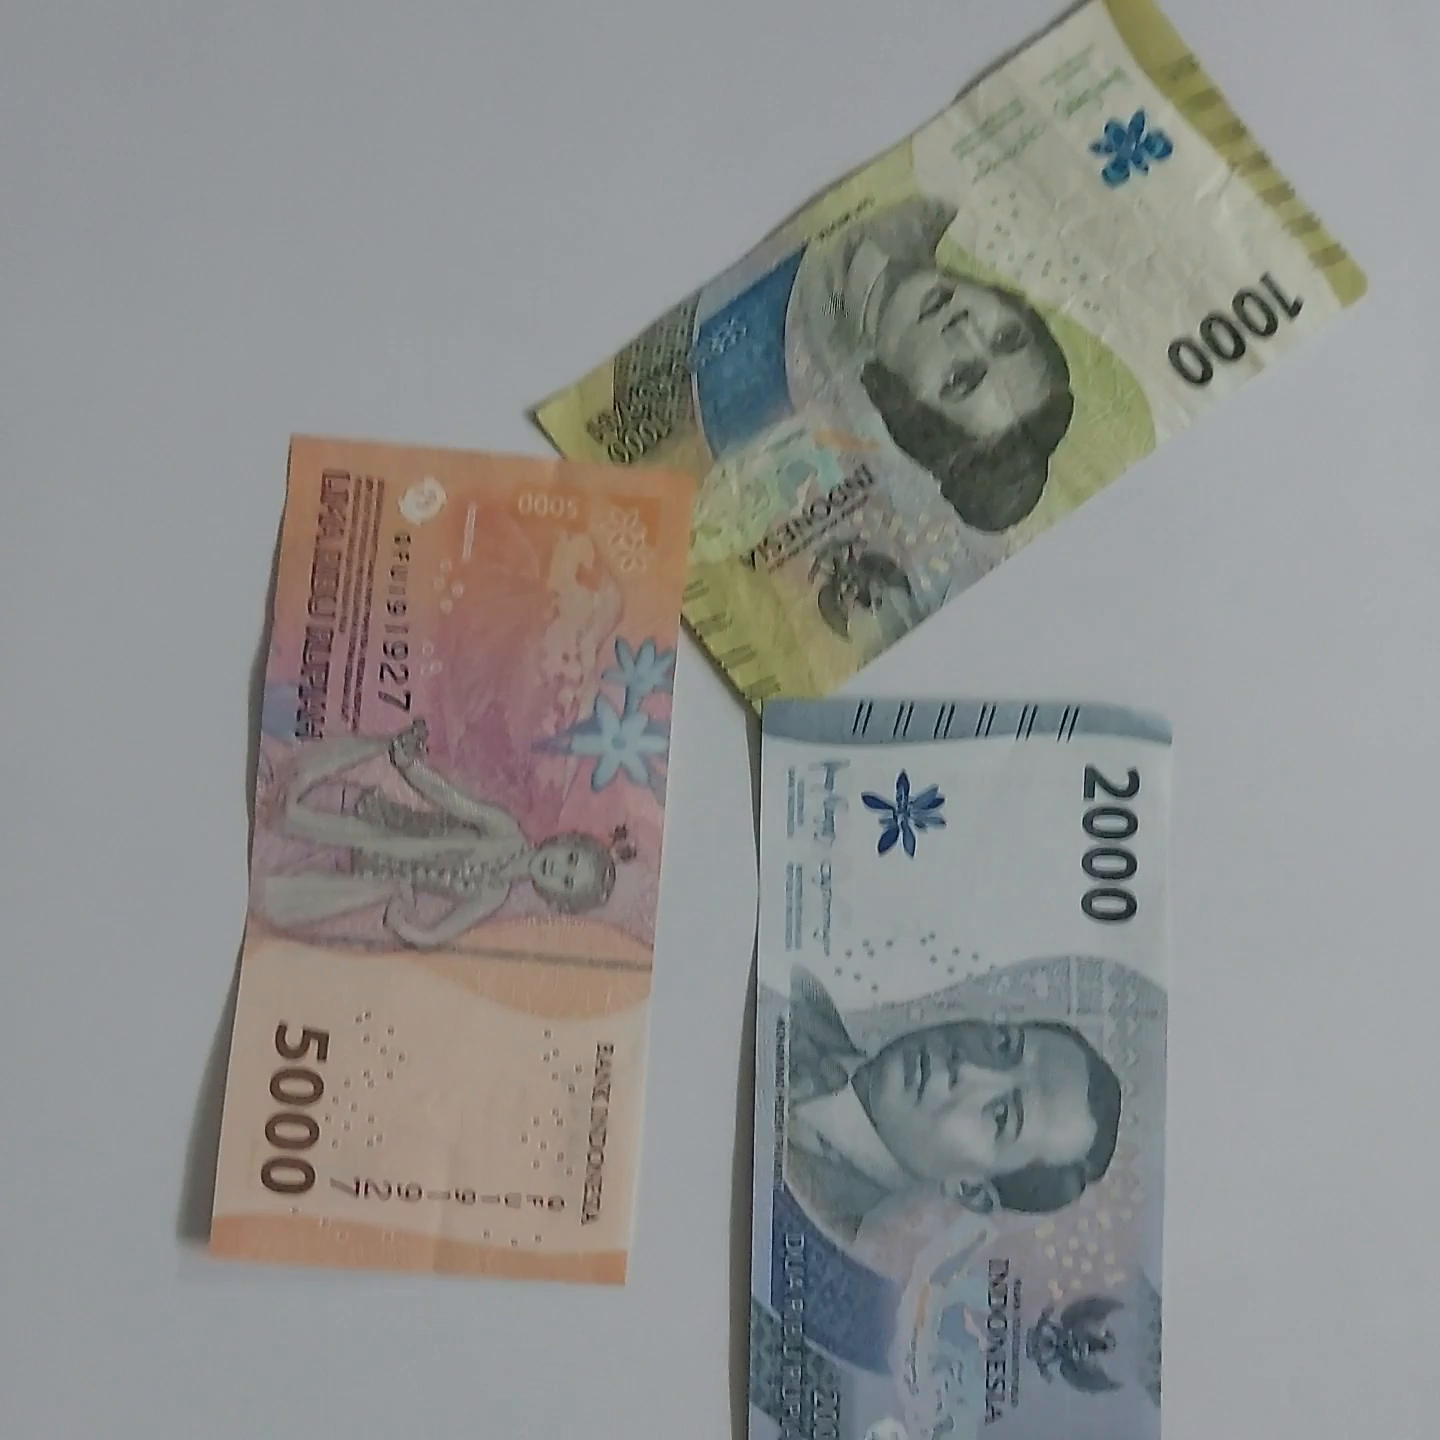1k: (513, 0, 1399, 746)
2k: (742, 695, 1182, 1440)
5k: (235, 393, 671, 1296)
